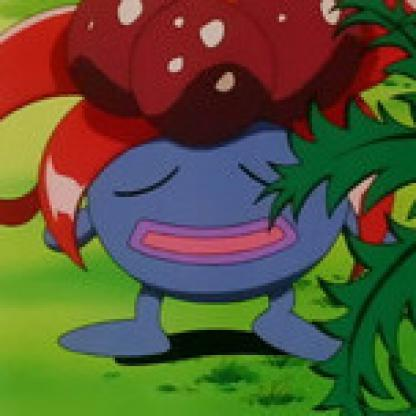Gloom: (1, 1, 404, 371)
